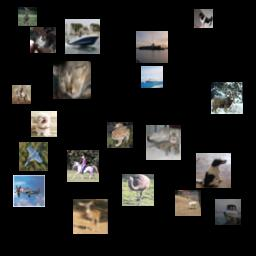airplane: (13, 175, 45, 207), (19, 142, 48, 171)
bird: (122, 174, 154, 206)
cat: (53, 61, 91, 99), (146, 125, 181, 160), (30, 27, 56, 53)
deer: (73, 199, 108, 234), (211, 82, 243, 114), (175, 190, 201, 216), (18, 7, 37, 26)
dog: (196, 153, 231, 188), (31, 111, 57, 137), (194, 9, 213, 28)
frog: (107, 122, 133, 148)
ship: (65, 19, 100, 54), (136, 31, 168, 63), (215, 199, 241, 225), (141, 66, 163, 88)
